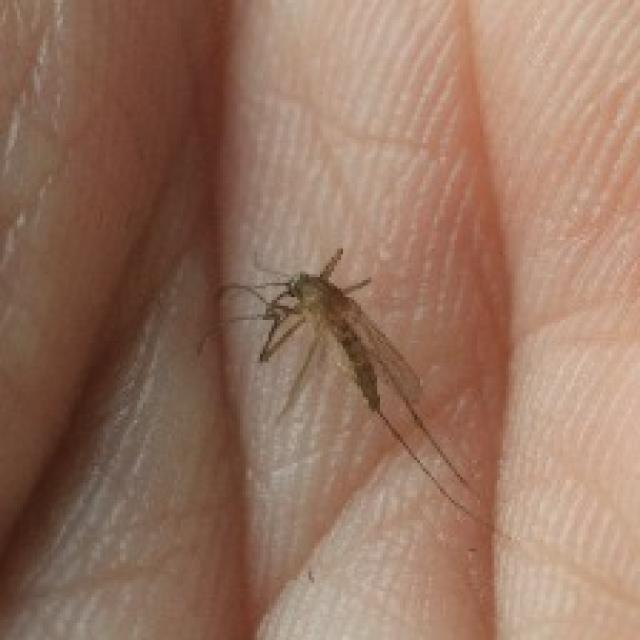culex: (194, 243, 497, 540)
